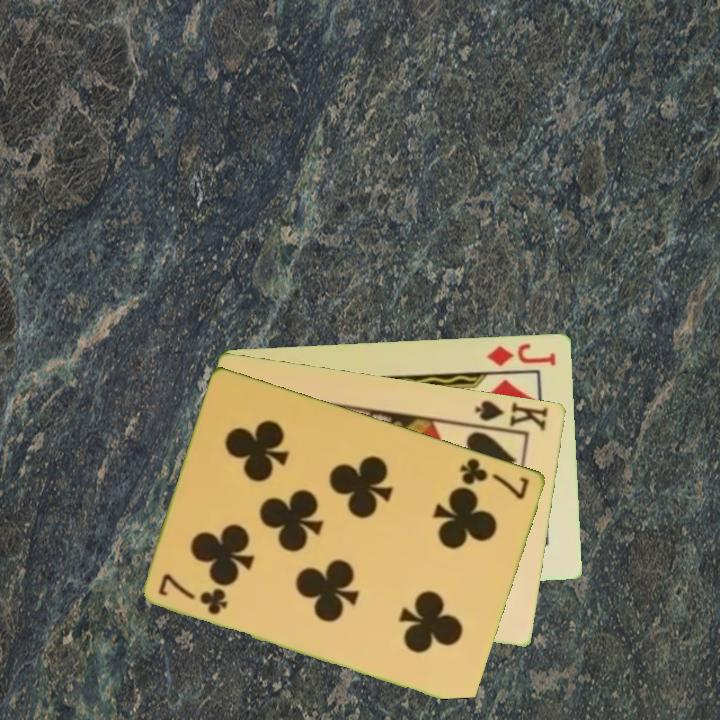7c: (155, 569, 232, 618), (456, 454, 533, 502)
Jd: (484, 339, 559, 368)
Ks: (472, 396, 551, 434)
